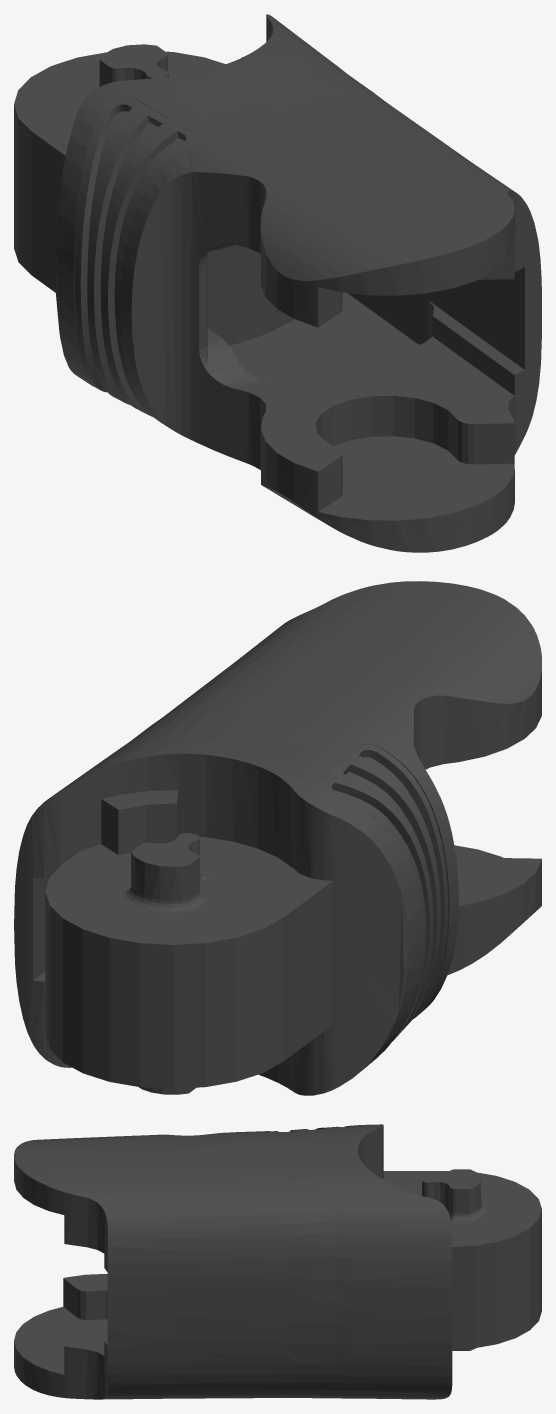
Rendered from rh_thumb_proximal_vis.obj.
3 renders of one model, top to bottom at view 1: azimuth 30°, elevation 25°; view 2: azimuth 150°, elevation 25°; view 3: azimuth 270°, elevation 25°, orthographic. The views are drawn at different scales.
Parts seen in each view (by area): view 1: rh_thumb_proximal; view 2: rh_thumb_proximal; view 3: rh_thumb_proximal.
Part boxes in pixels (box(x1,y1,x2,y2)): rh_thumb_proximal: box(14, 14, 541, 552); rh_thumb_proximal: box(14, 581, 541, 1095); rh_thumb_proximal: box(14, 1124, 541, 1399).
Size of the model in its own units: 0.0211 by 0.0195 by 0.0426.
1 material, 1 textured.
